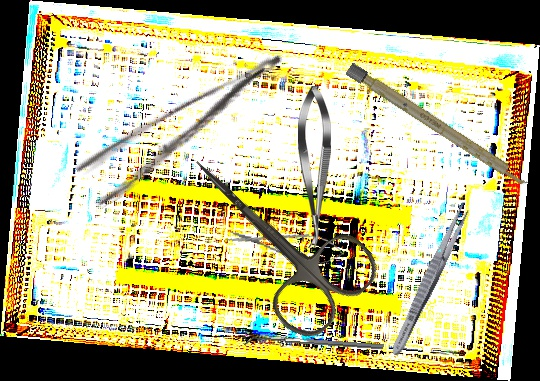Dressing Forceps: (72, 49, 304, 211), (387, 199, 474, 359)
Iris Scissors: (158, 119, 387, 349)
Micro Scissor: (225, 220, 347, 270), (298, 86, 331, 248)
Scalpel Handle: (345, 62, 531, 190)
Spatula Surgical: (244, 334, 384, 355)
